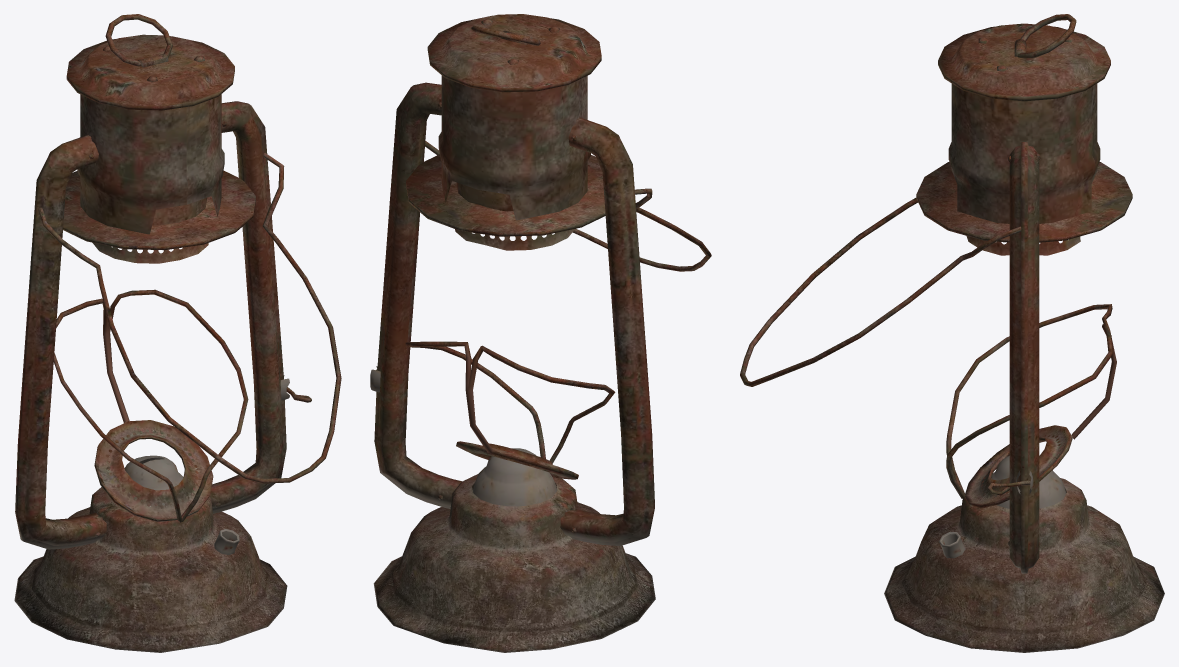
File: rusty_lamp_opt.glb
The picture shows the model from 3 angles, left to right: view 1: azimuth 30°, elevation 25°; view 2: azimuth 150°, elevation 25°; view 3: azimuth 270°, elevation 25°; orthographic projection. The views are drawn at different scales.
Parts seen in each view (by area): view 1: Object_4; view 2: Object_4; view 3: Object_4.
Part boxes in pixels (x1,y1,x2,y2): Object_4: (14,14,341,652); Object_4: (370,14,711,652); Object_4: (740,14,1164,652).
Size of the model in its own units: 0.141 by 0.2695 by 0.1811.
Materials: 1 (1 with a texture image).
